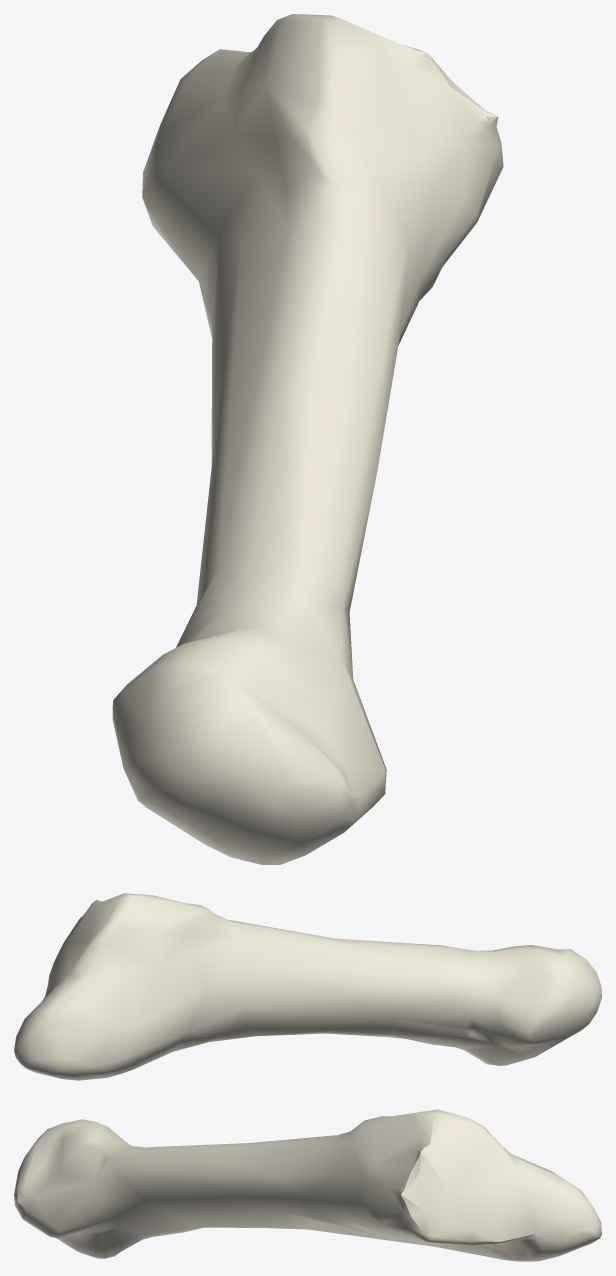
File: fma24515_fj6453.glb
3 renders of one model, top to bottom at view 1: azimuth 30°, elevation 25°; view 2: azimuth 150°, elevation 25°; view 3: azimuth 270°, elevation 25°, orthographic. The views are drawn at different scales.
Parts seen in each view (by area): view 1: FMA24515_FJ6453; view 2: FMA24515_FJ6453; view 3: FMA24515_FJ6453.
Part boxes in pixels (<box>): FMA24515_FJ6453: <box>112,14,503,864</box>; FMA24515_FJ6453: <box>14,893,601,1080</box>; FMA24515_FJ6453: <box>14,1109,601,1261</box>.
Size of the model in its own units: 0.0459 by 0.0298 by 0.0657.
